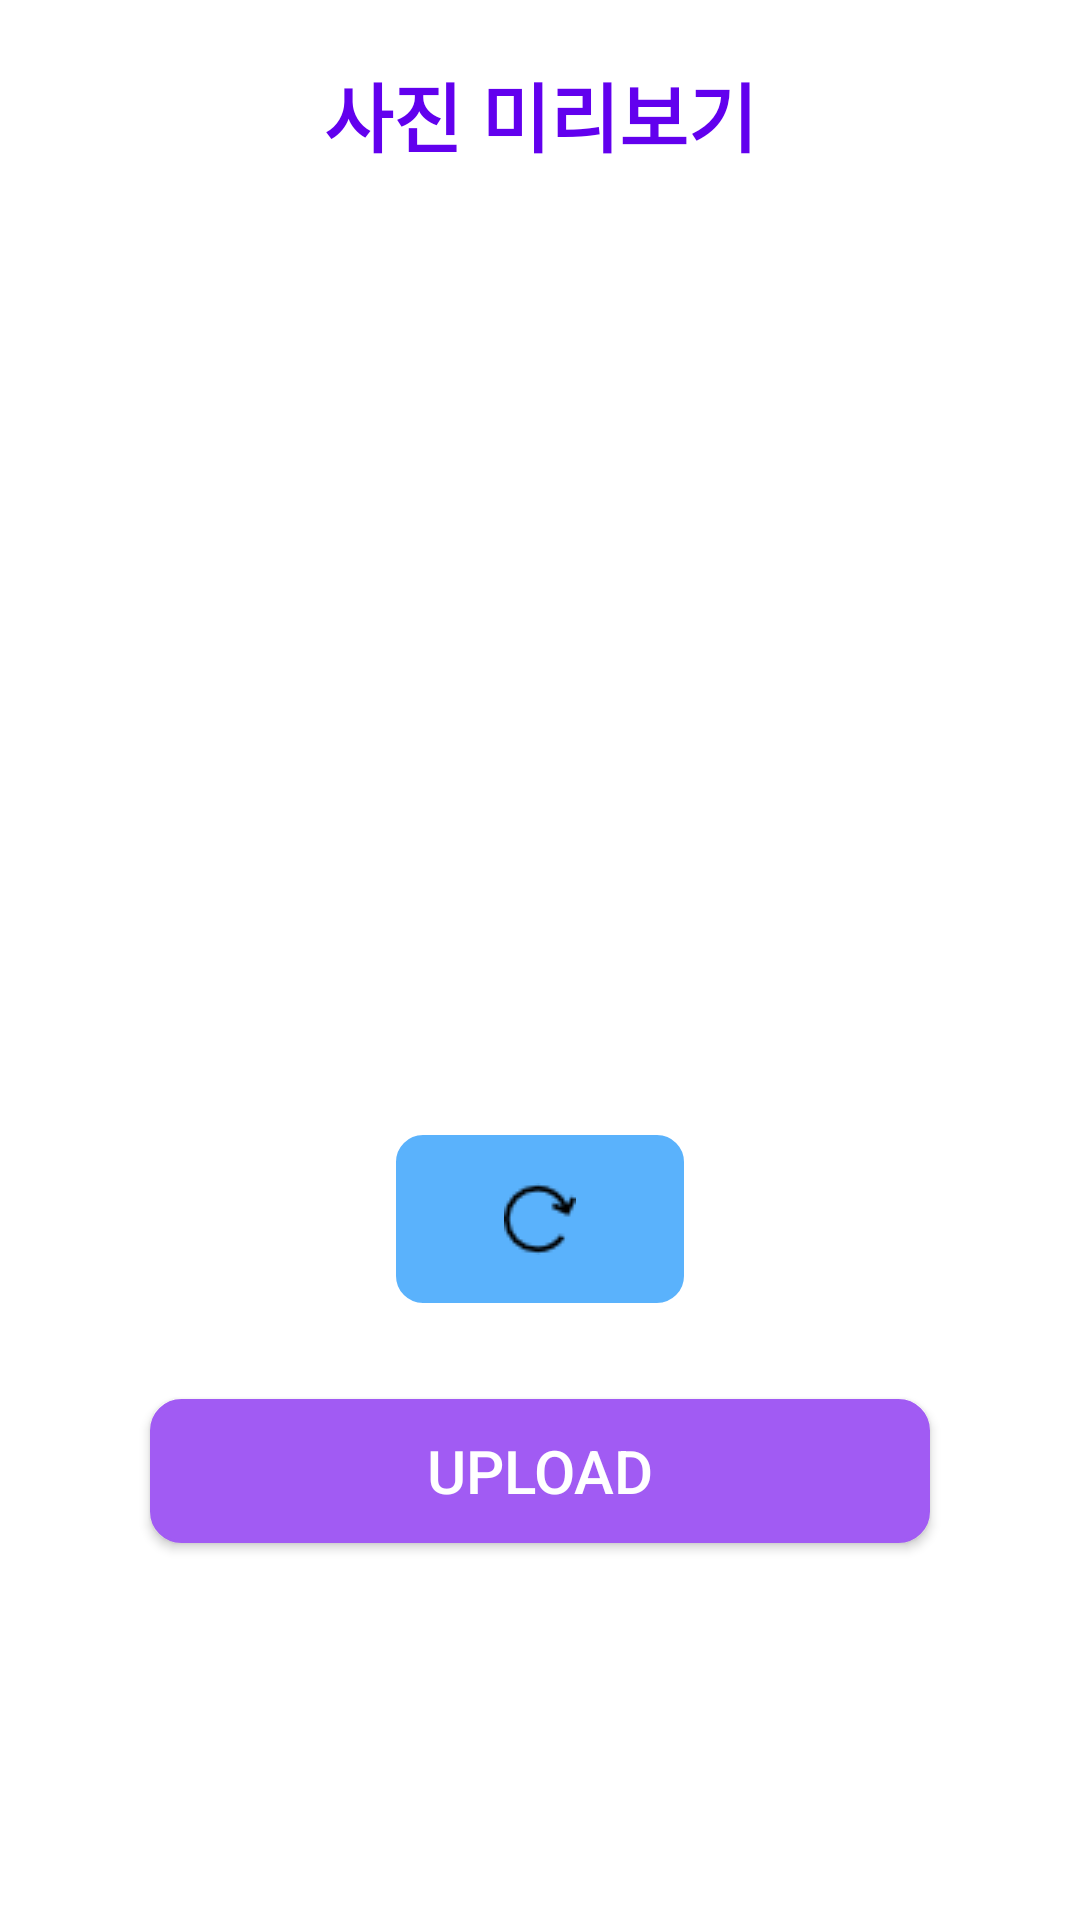

Icon click points for this 1080 x 1920 phone screenshot, format (x,y):
rotate: (540,1219)
